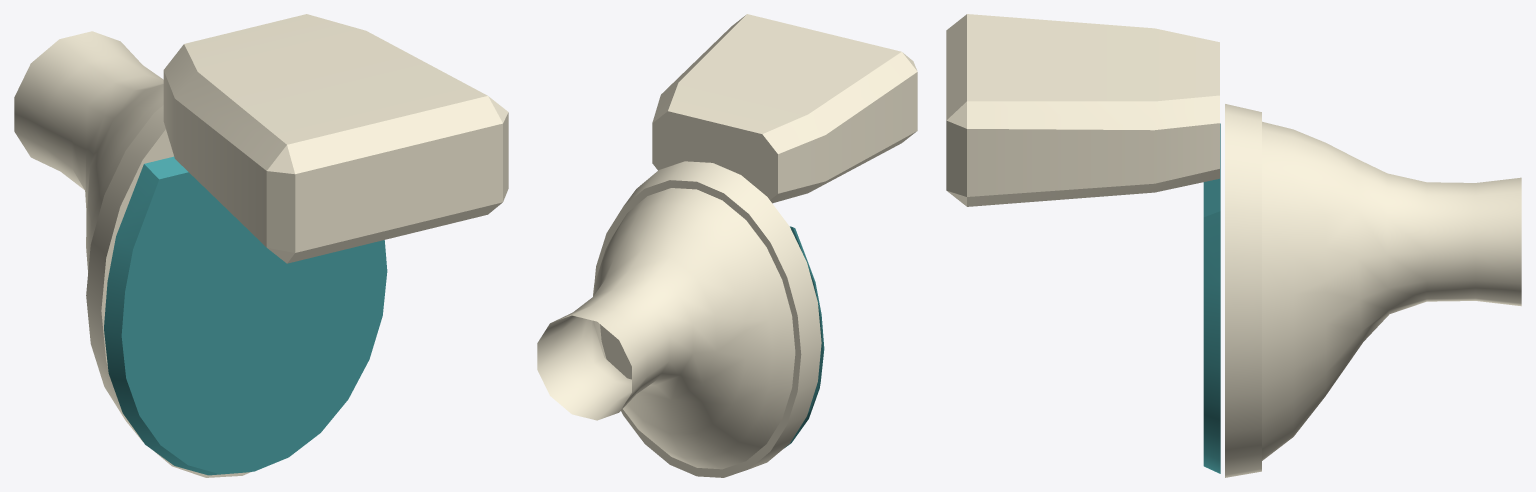
File: toilet.glb
3 renders of one model, left to right at view 1: azimuth 30°, elevation 25°; view 2: azimuth 150°, elevation 25°; view 3: azimuth 270°, elevation 25°, orthographic. The views are drawn at different scales.
Visible parts, largest first — view 1: toilet, cover; view 2: toilet, cover; view 3: toilet, cover.
Part boxes in pixels (x1=…): toilet: x1=14, y1=14, x2=508, y2=477; cover: x1=104, y1=156, x2=387, y2=475; toilet: x1=537, y1=14, x2=917, y2=477; cover: x1=784, y1=226, x2=824, y2=448; toilet: x1=946, y1=14, x2=1521, y2=477; cover: x1=1203, y1=123, x2=1220, y2=473.
Bounding box in the file's own units: 0.8798 × 1.37 × 1.74.
